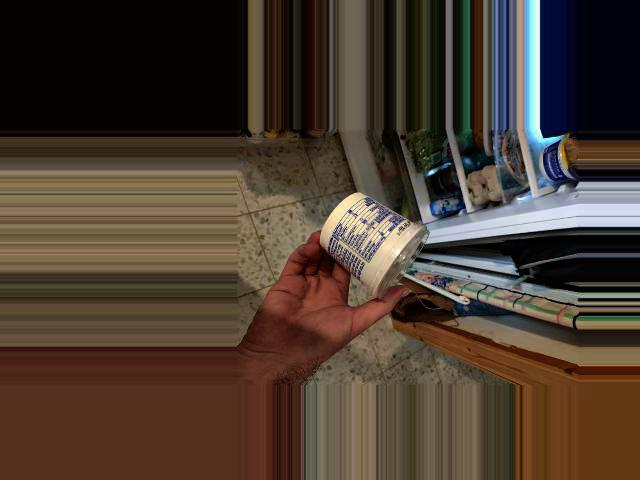cotage: (316, 190, 433, 295)
